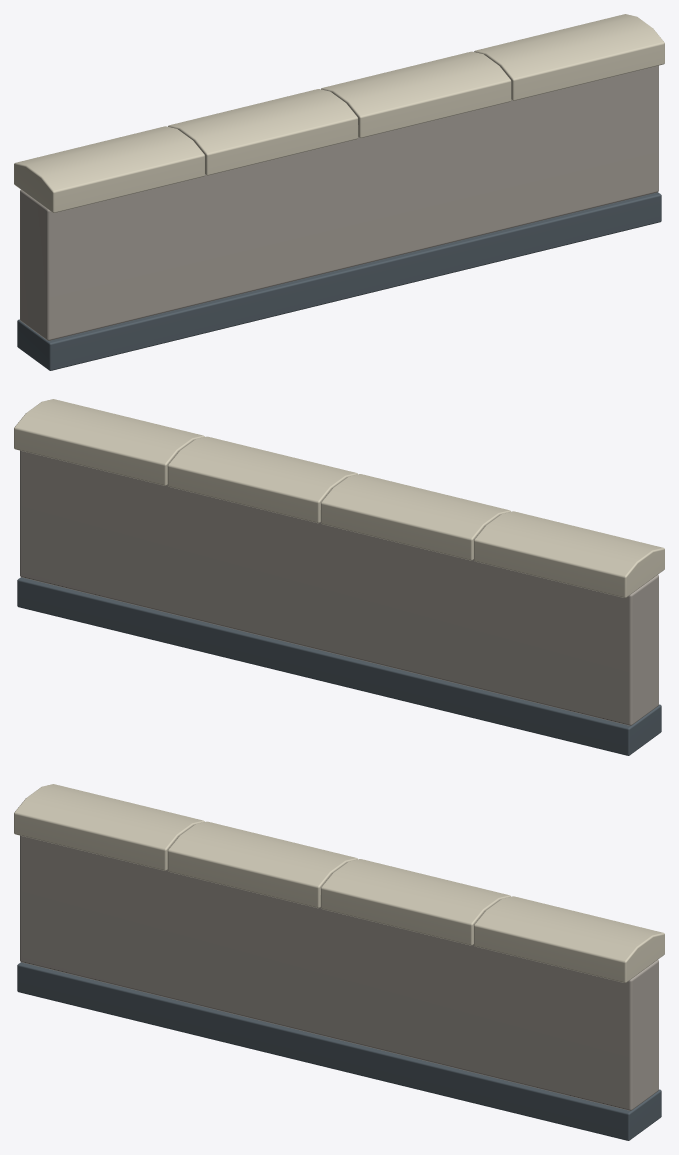
File: d02_domestic_details_01.glb
3 views of the same model, one above another, from view 1: azimuth 30°, elevation 25°; view 2: azimuth 150°, elevation 25°; view 3: azimuth 330°, elevation 25° (orthographic).
Parts seen in each view (by area): view 1: D02DomesticDetails01_Mesh; view 2: D02DomesticDetails01_Mesh; view 3: D02DomesticDetails01_Mesh.
Boxes of the visible parts, x1,y1,x2,y2 form: D02DomesticDetails01_Mesh: (14,14,664,370); D02DomesticDetails01_Mesh: (14,399,664,755); D02DomesticDetails01_Mesh: (14,784,664,1140).
Bounding box in the file's own units: 3.2 × 0.94 × 0.36.
